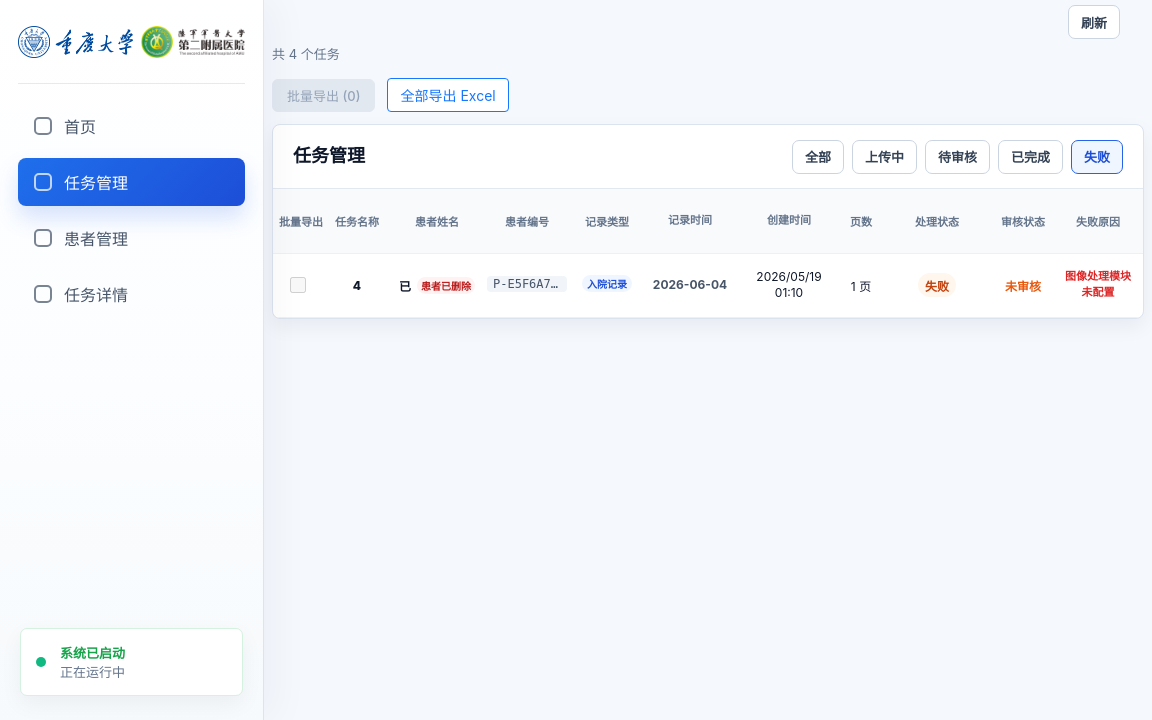
MVP task list and retry › uses the status query parameter when opening failed task reasons
Expected: the table named "任务列表" is shown, [273, 189, 1143, 318]
Expected: the text "4" is shown, [321, 253, 393, 317]
Click the button "全部". click: (818,156)
box: [792, 140, 844, 174]
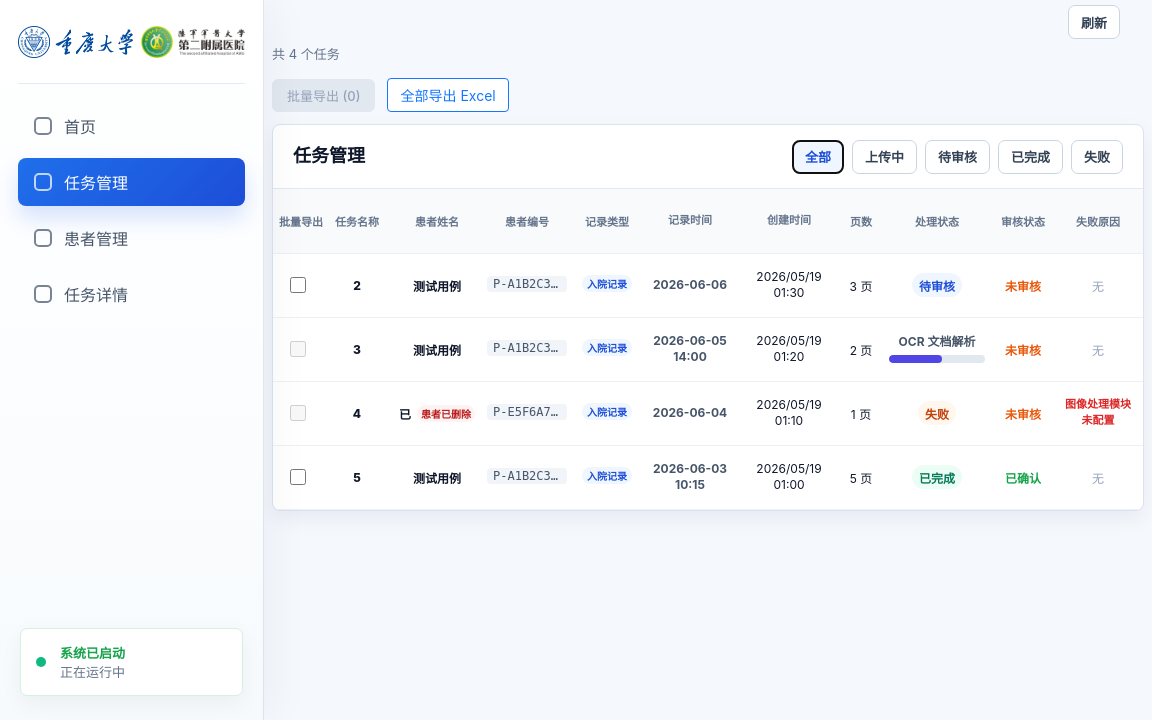
Expected: the text "2" is shown, [321, 253, 393, 317]
Expected: the text "3" is shown, [321, 317, 393, 381]
